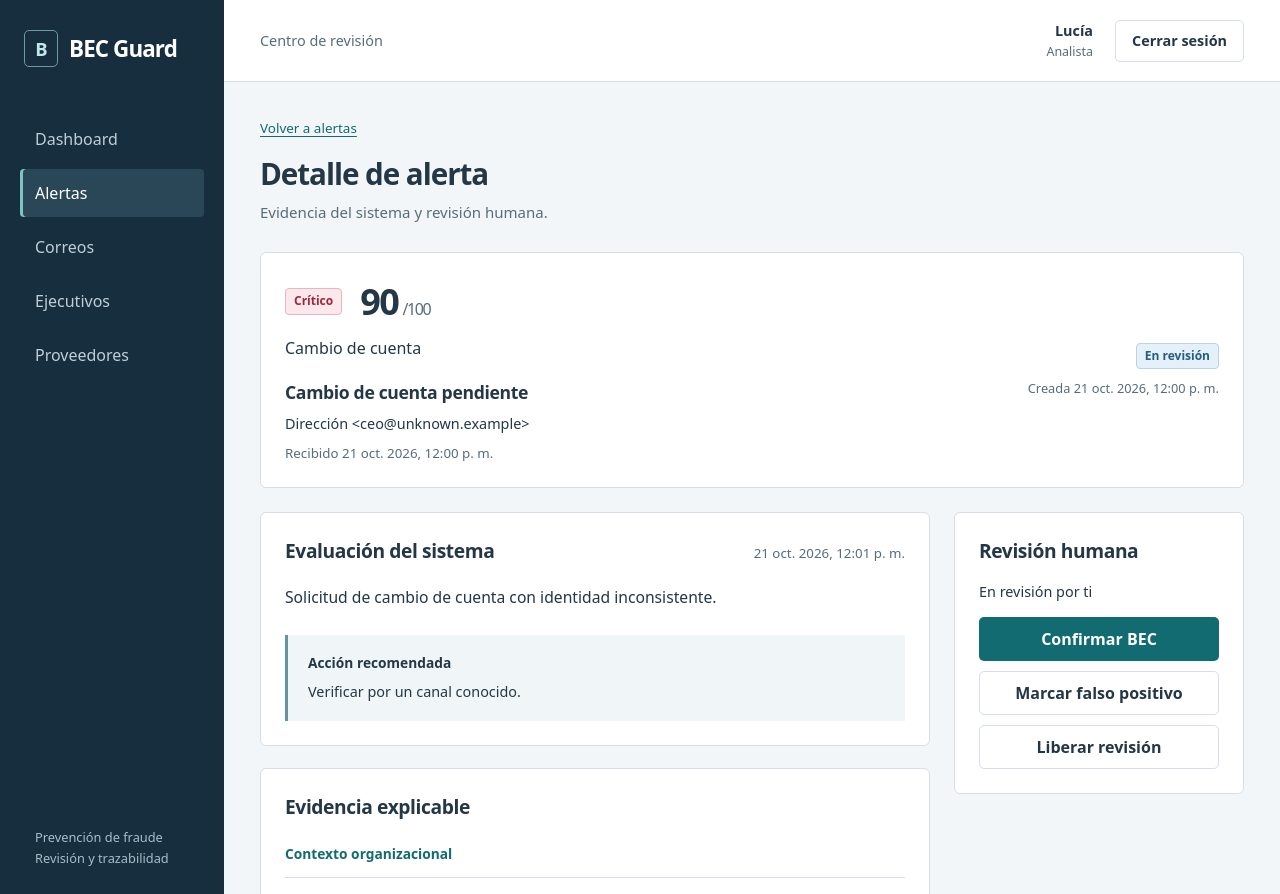
decision dialog cycles focus and closes without resolving
The width and height of the screenshot is (1280, 894).
Click the button "Confirmar BEC" at point(1099, 639), box 979,617 -> 1219,661
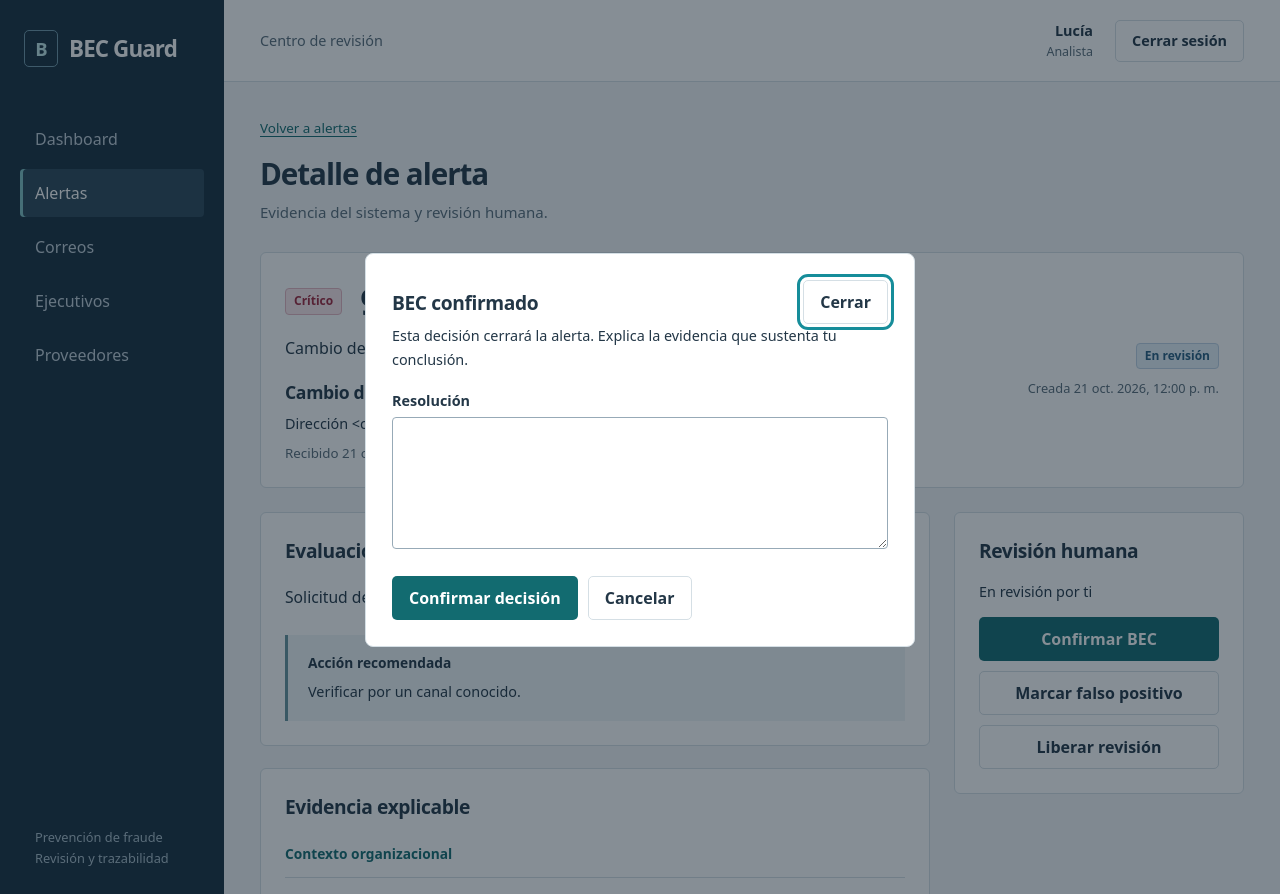
Press Shift+Tab
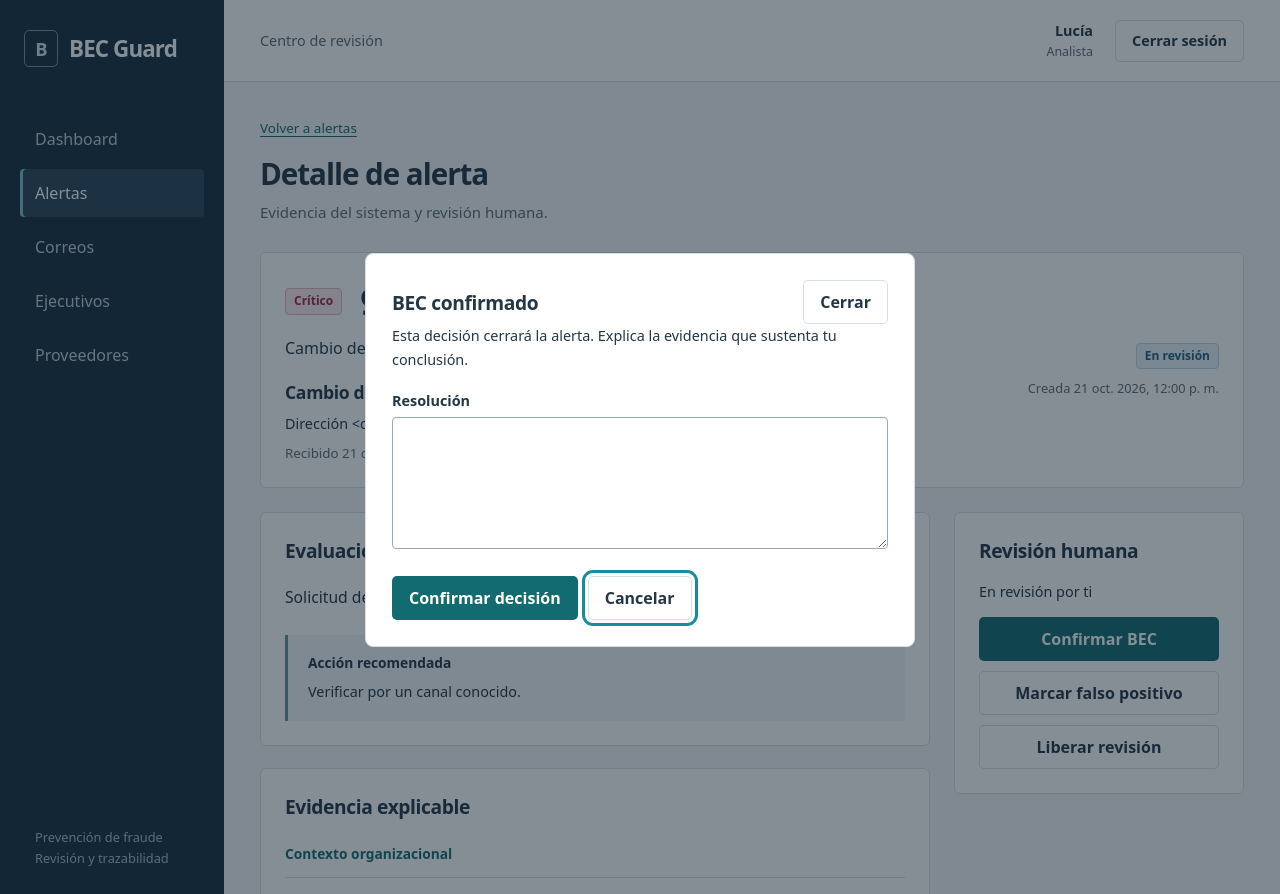
Press Tab
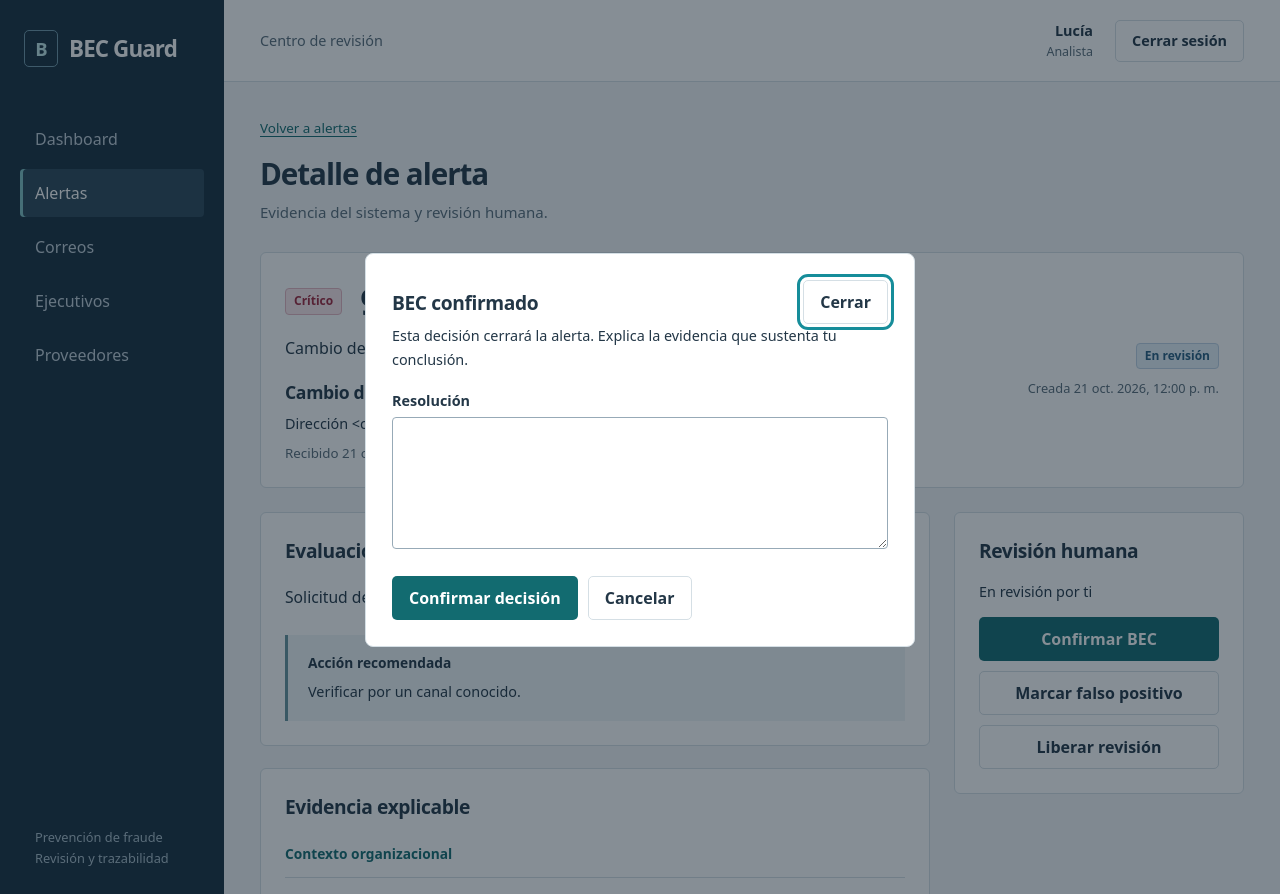
Click the button with aria-label "Cerrar diálogo" at point(846, 302), box 803,280 -> 888,324
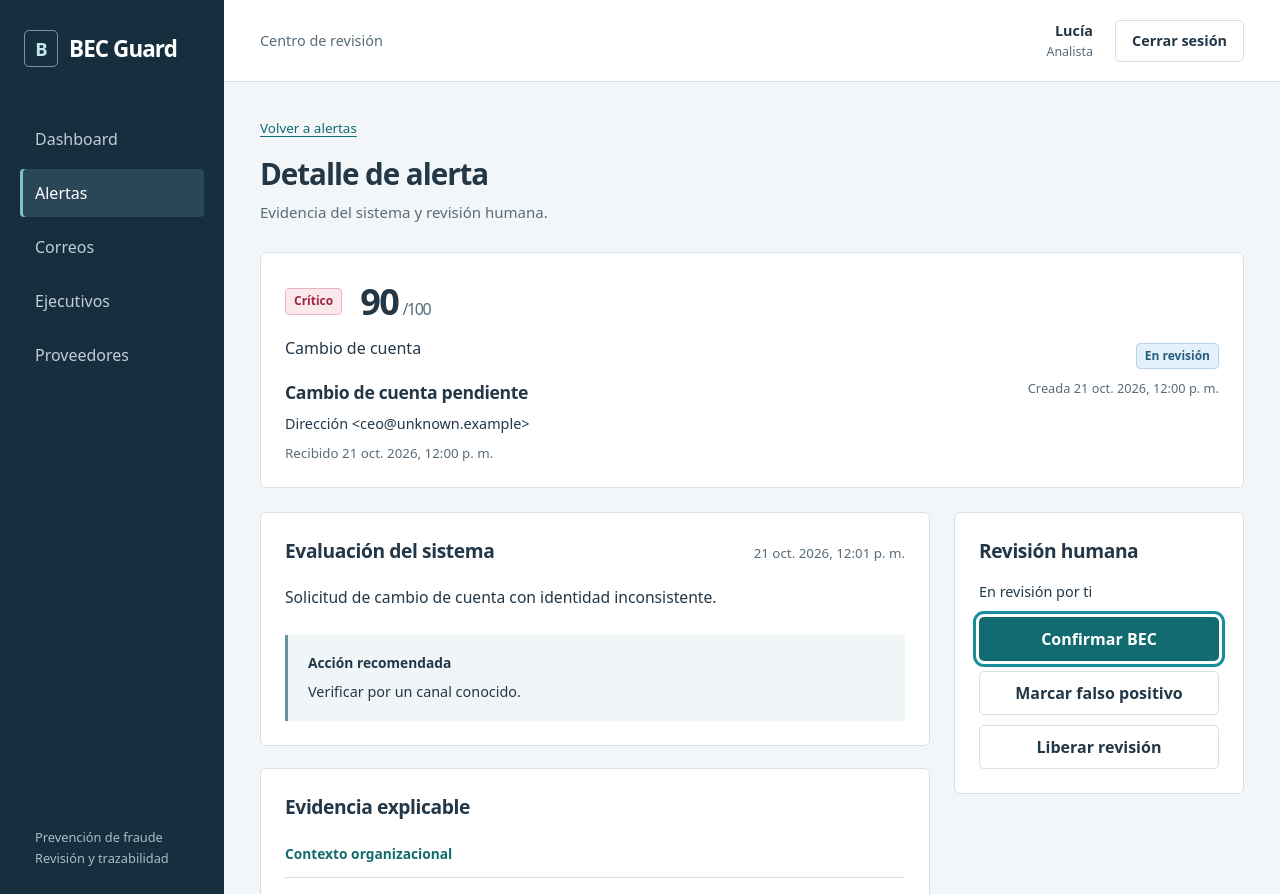
Expected: the dialog is gone
